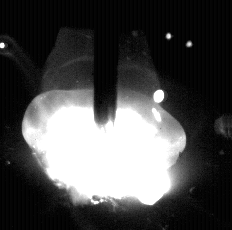arame: (94, 0, 118, 125)
poca: (20, 0, 185, 230)
